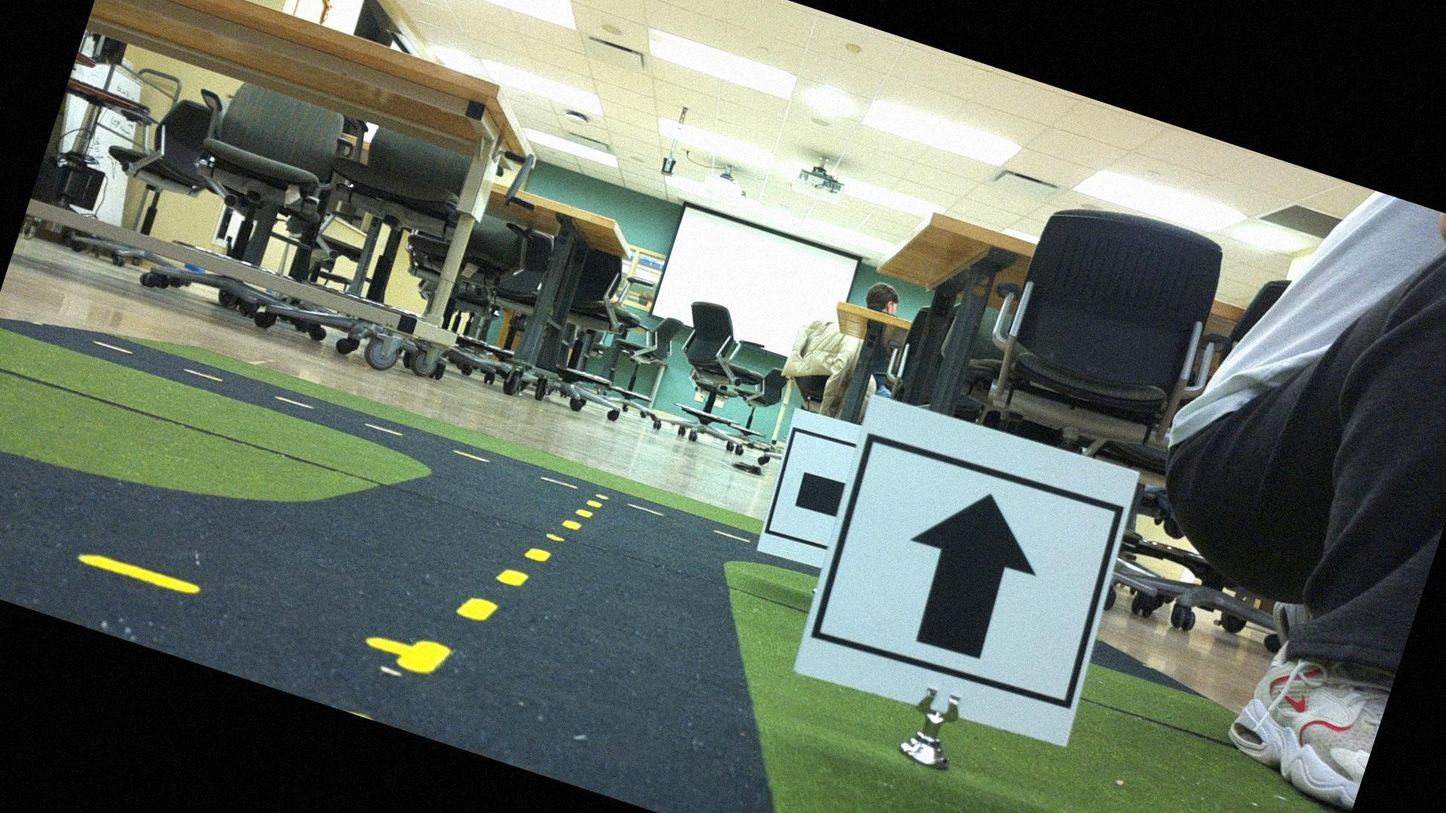gostraight: (801, 402, 1136, 743)
yellowline: (394, 446, 609, 715)
